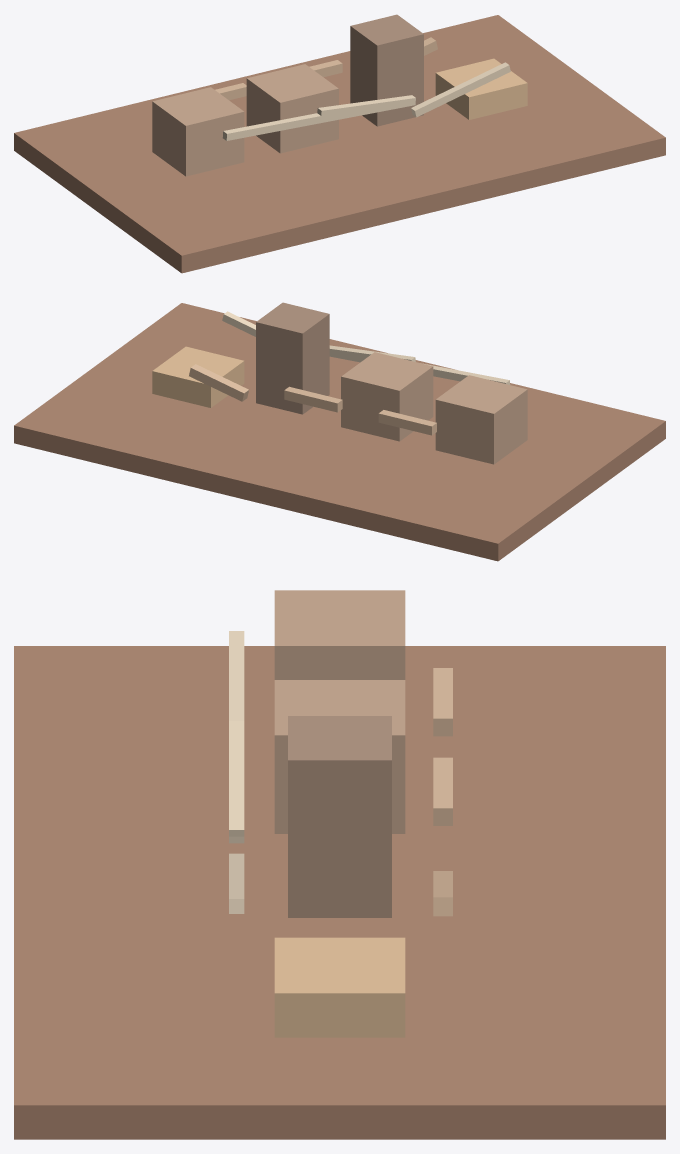
File: hero.glb
3 renders of one model, top to bottom at view 1: azimuth 30°, elevation 25°; view 2: azimuth 150°, elevation 25°; view 3: azimuth 270°, elevation 25°, orthographic. The views are drawn at different scales.
Visible parts, largest first — view 1: substrate_warehouse_manipulation_cell, 01_data_ingestion_and_labeling_pipeline, 03_model_+_uncertainty_quantification, 02_feature__representation_layer, 04_deployment_target_+_monitoring_loop, control_->_01, control_->_04, control_->_02; view 2: substrate_warehouse_manipulation_cell, 03_model_+_uncertainty_quantification, 01_data_ingestion_and_labeling_pipeline, 02_feature__representation_layer, 04_deployment_target_+_monitoring_loop, flow_3_->_4, control_->_01, flow_1_->_2, flow_2_->_3, control_->_04, control_->_02; view 3: substrate_warehouse_manipulation_cell, 03_model_+_uncertainty_quantification, 04_deployment_target_+_monitoring_loop, 01_data_ingestion_and_labeling_pipeline, 02_feature__representation_layer, control_->_02, control_->_01, flow_1_->_2, flow_2_->_3, control_->_04, flow_3_->_4.
Part boxes in pixels (left/top/right/bottom): substrate_warehouse_manipulation_cell: left=14, top=15, right=665, bottom=273; 01_data_ingestion_and_labeling_pipeline: left=152, top=87, right=244, bottom=176; 03_model_+_uncertainty_quantification: left=350, top=14, right=423, bottom=126; 02_feature__representation_layer: left=246, top=64, right=338, bottom=153; 04_deployment_target_+_monitoring_loop: left=435, top=58, right=527, bottom=119; control_->_01: left=222, top=98, right=415, bottom=140; control_->_04: left=411, top=62, right=510, bottom=117; control_->_02: left=317, top=95, right=415, bottom=117; substrate_warehouse_manipulation_cell: left=14, top=303, right=665, bottom=561; 03_model_+_uncertainty_quantification: left=256, top=302, right=329, bottom=414; 01_data_ingestion_and_labeling_pipeline: left=435, top=375, right=527, bottom=464; 02_feature__representation_layer: left=341, top=352, right=433, bottom=441; 04_deployment_target_+_monitoring_loop: left=152, top=346, right=244, bottom=407; flow_3_->_4: left=189, top=364, right=248, bottom=401; control_->_01: left=329, top=349, right=510, bottom=384; flow_1_->_2: left=378, top=410, right=436, bottom=435; flow_2_->_3: left=284, top=386, right=342, bottom=412; control_->_04: left=222, top=311, right=255, bottom=336; control_->_02: left=329, top=345, right=415, bottom=361; substrate_warehouse_manipulation_cell: left=14, top=646, right=665, bottom=1139; 03_model_+_uncertainty_quantification: left=288, top=716, right=391, bottom=917; 04_deployment_target_+_monitoring_loop: left=274, top=937, right=405, bottom=1037; 01_data_ingestion_and_labeling_pipeline: left=274, top=590, right=405, bottom=679; 02_feature__representation_layer: left=274, top=680, right=405, bottom=833; control_->_02: left=229, top=721, right=244, bottom=836; control_->_01: left=229, top=631, right=244, bottom=843; flow_1_->_2: left=433, top=668, right=452, bottom=736; flow_2_->_3: left=433, top=757, right=452, bottom=825; control_->_04: left=229, top=853, right=244, bottom=913; flow_3_->_4: left=433, top=871, right=452, bottom=916.
Size of the model in its own units: 5 by 1.1 by 3.
